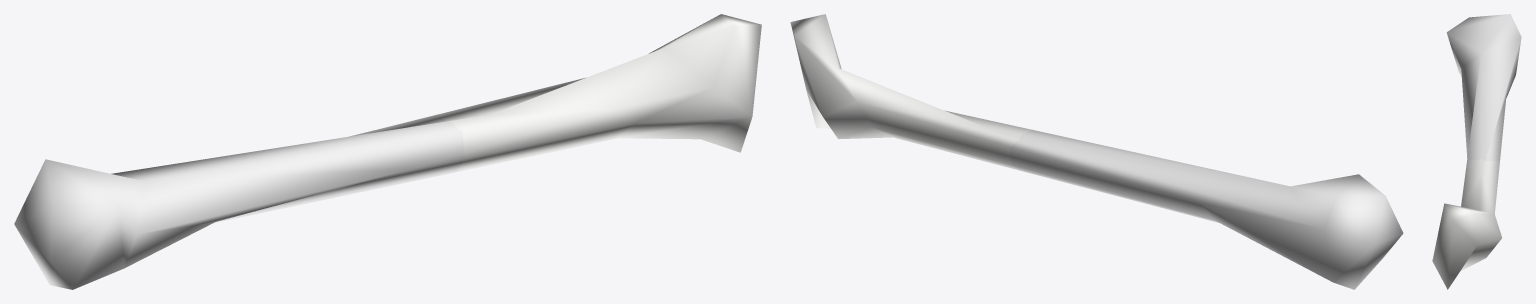
Rendered from SM_bone_1.fbx.
3 views of the same model, side by side, from view 1: azimuth 30°, elevation 25°; view 2: azimuth 150°, elevation 25°; view 3: azimuth 270°, elevation 25° (orthographic). The views are drawn at different scales.
Visible parts, largest first — view 1: SM_bone_1; view 2: SM_bone_1; view 3: SM_bone_1.
Boxes of the visible parts, bbox=[...] form: SM_bone_1: bbox=[14, 14, 761, 289]; SM_bone_1: bbox=[790, 14, 1403, 289]; SM_bone_1: bbox=[1432, 14, 1521, 289].
Size of the model in its own units: 64.86 by 11.47 by 11.03.
1 material, 1 textured.
